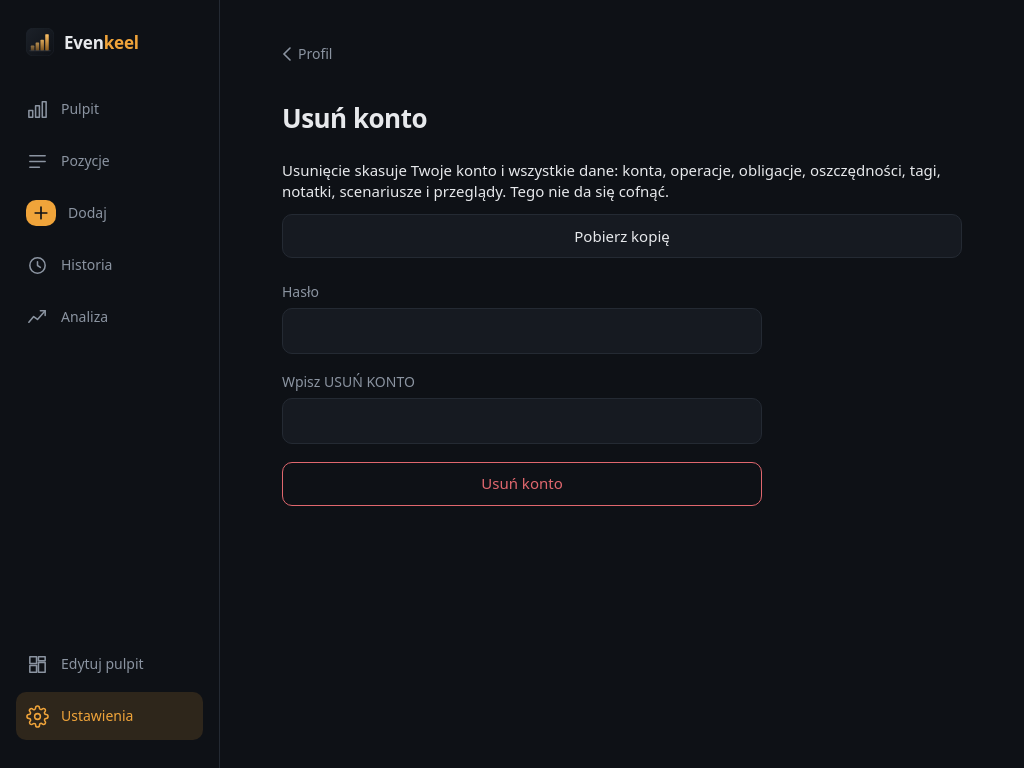
Test: Usuń konto › shows a wrong password and keeps the user signed in
Type "zle" into the password field labelled "Hasło". click: (522, 331)
box: [282, 308, 762, 354]
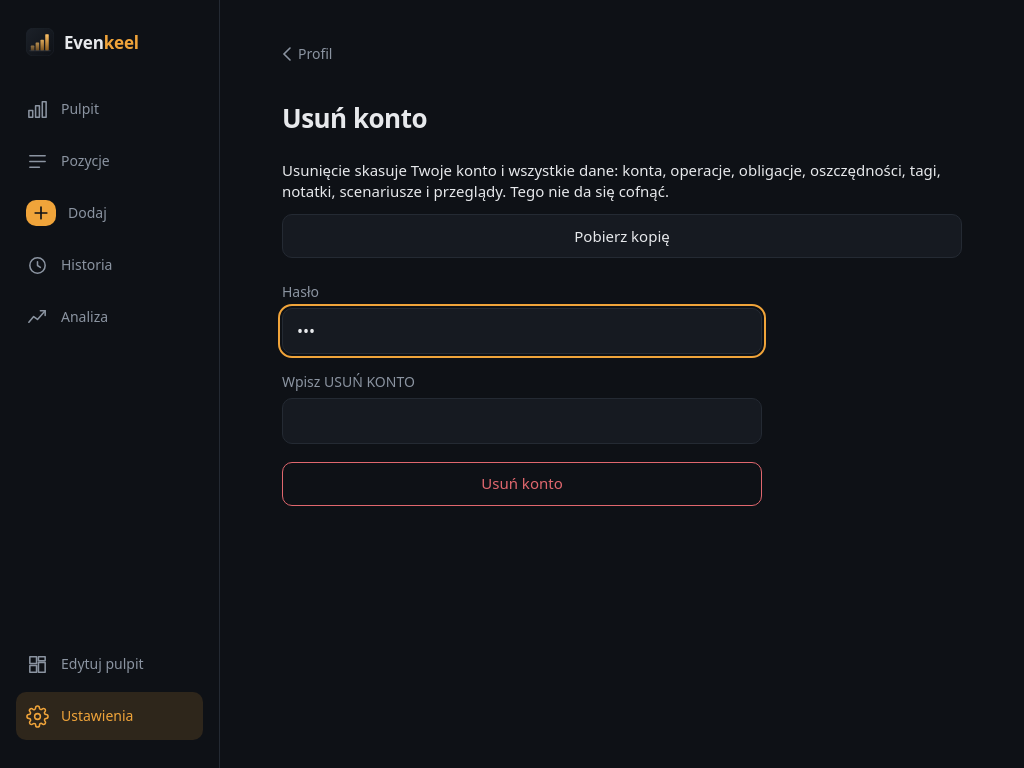
Type "USUŃ KONTO" into the field labelled "Wpisz USUŃ KONTO". click: (522, 421)
box: [282, 398, 762, 444]
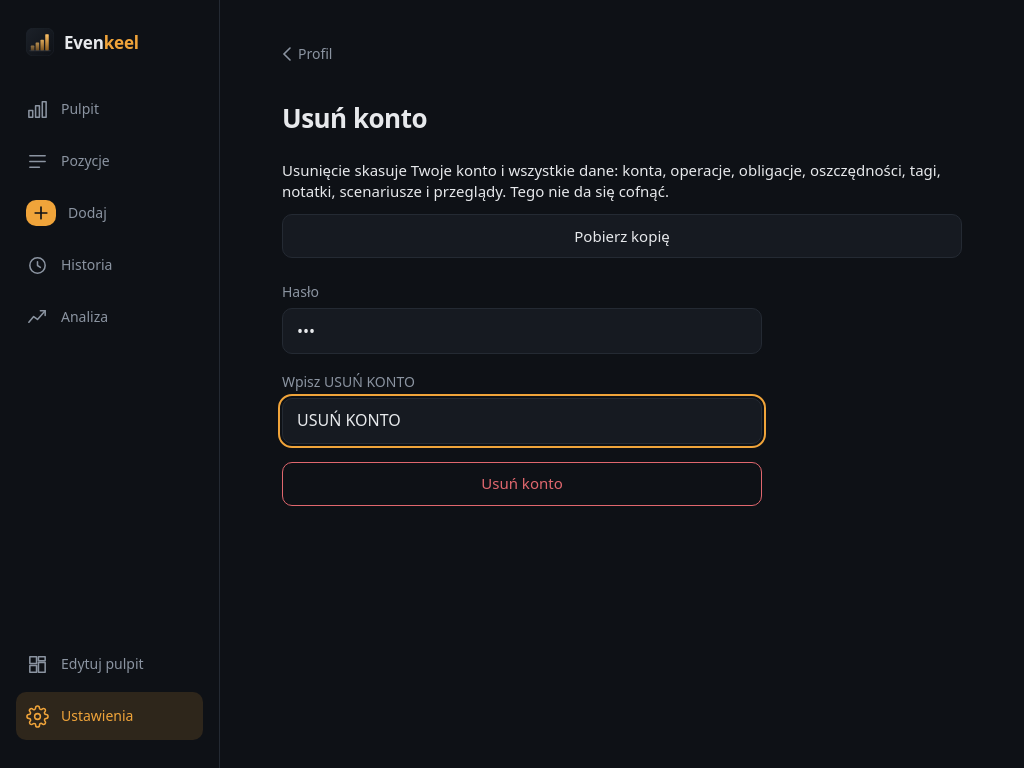
Click the button "Usuń konto". click: (522, 484)
box: [282, 462, 762, 506]
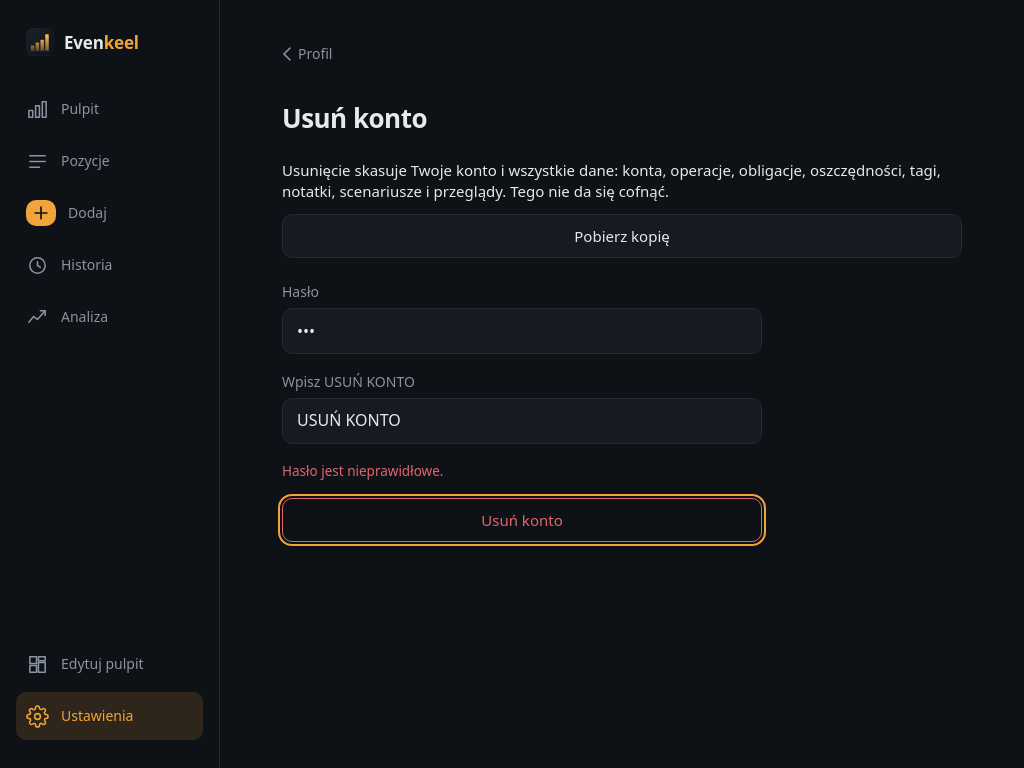
Expected: the heading "Usuń konto" is shown, [282, 100, 427, 136]
Expected: the message reads "Hasło jest nieprawidłowe.", [282, 462, 443, 480]
